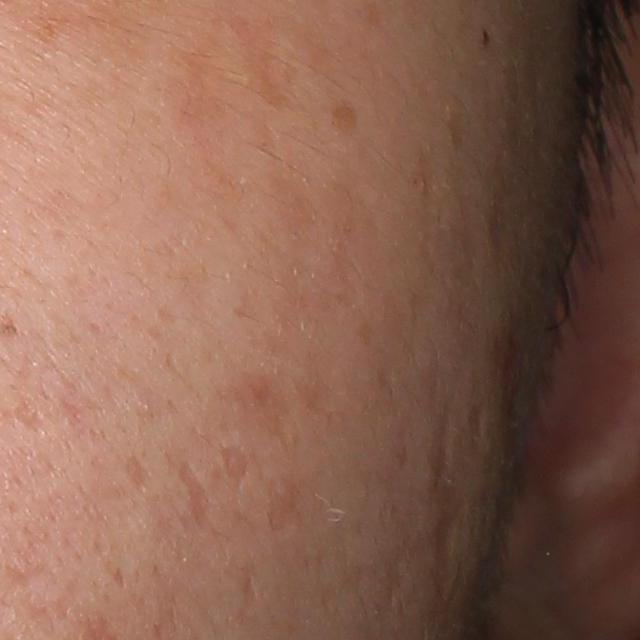atrophic_scar: (431, 508, 465, 600), (175, 461, 212, 526), (216, 439, 247, 485), (12, 392, 45, 435), (122, 457, 154, 489)
melasma: (329, 100, 363, 133)
nevus: (480, 26, 493, 50)
